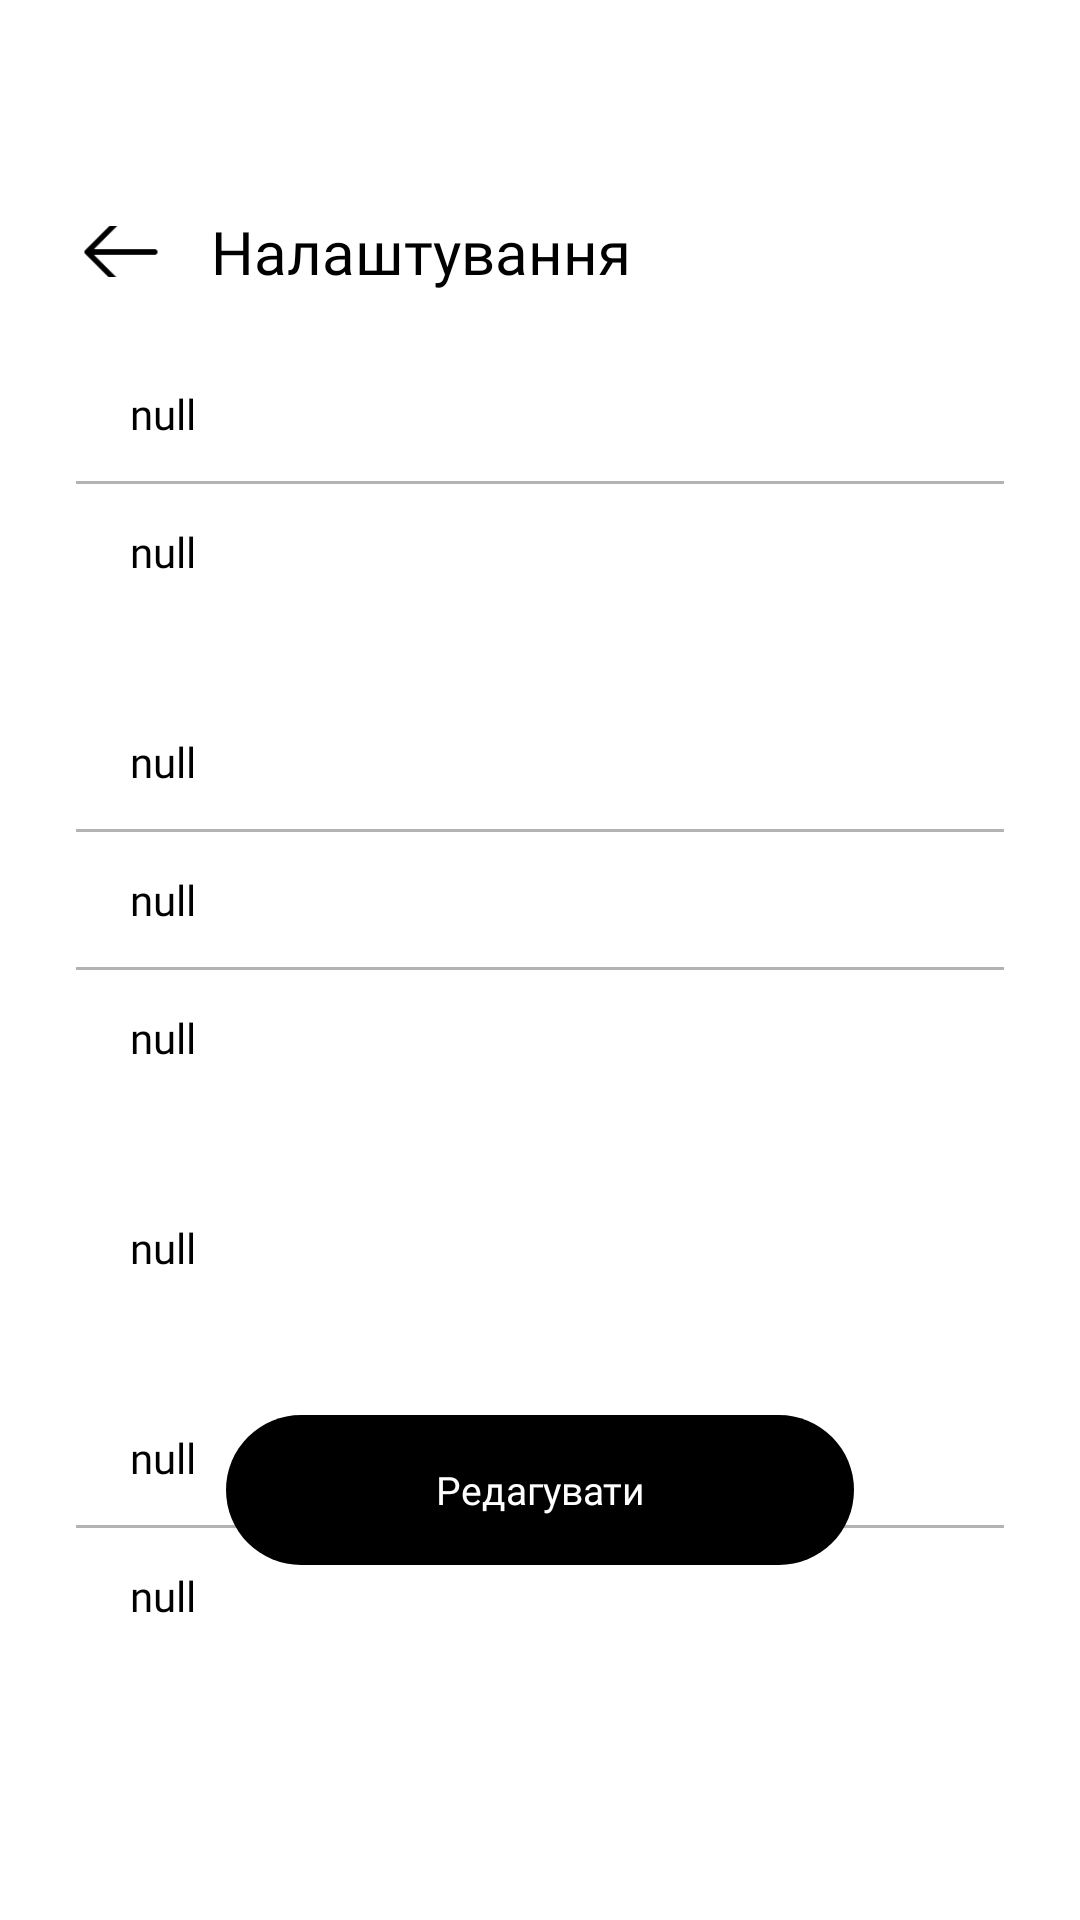

Named icons in this screenshot (1080px×1920px) and their centers, (x=x, y=y):
arrow left: (x=121, y=251)
